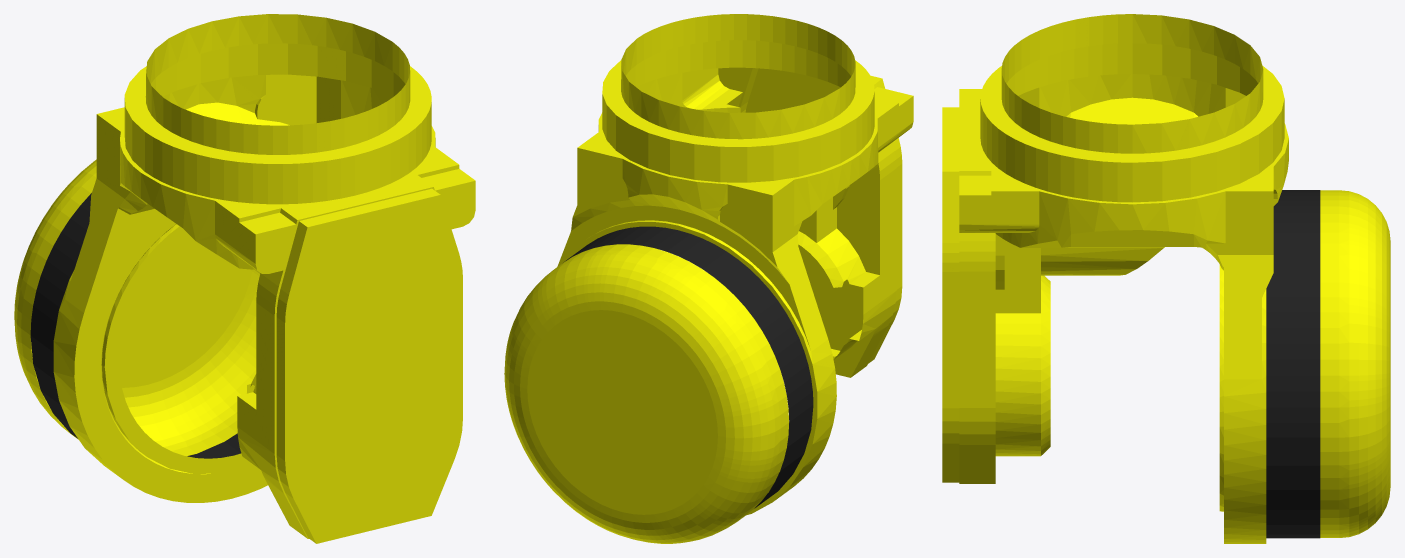
3 renders of one model, left to right at view 1: azimuth 30°, elevation 25°; view 2: azimuth 150°, elevation 25°; view 3: azimuth 270°, elevation 25°, orthographic. The views are drawn at different scales.
Visible parts, largest first — view 1: node; view 2: node; view 3: node.
Boxes of the visible parts, left/top/right/bottom form: node: left=14, top=14, right=475, bottom=543; node: left=504, top=14, right=913, bottom=543; node: left=942, top=14, right=1390, bottom=543.
Bounding box in the file's own units: 246 × 346 × 306.
